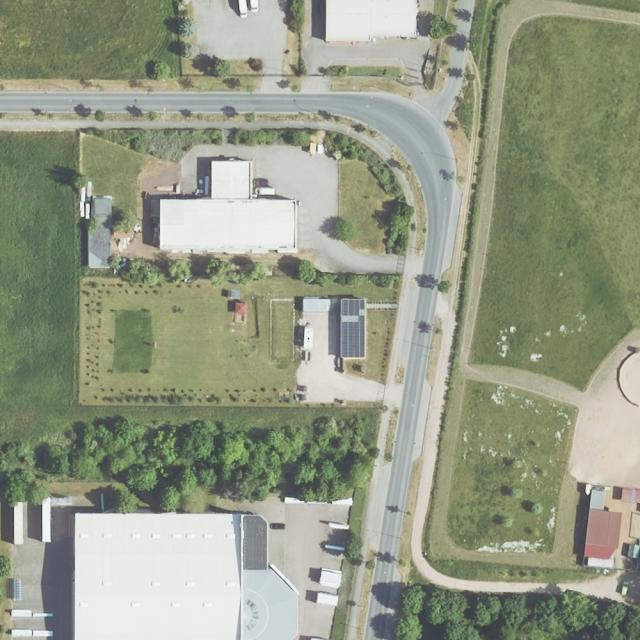PV: (341, 298, 366, 358)
